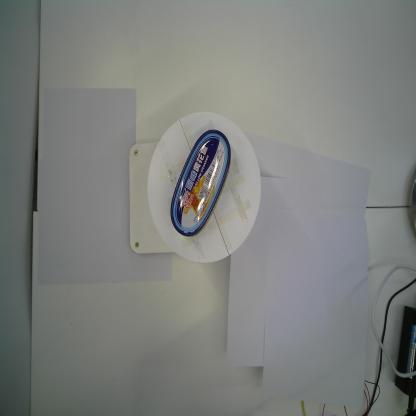Canned Food: (169, 128, 232, 238)
